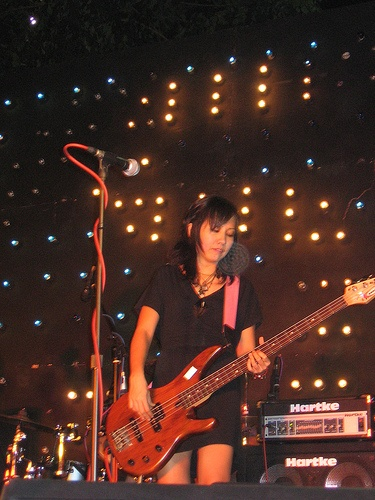head: (185, 197, 237, 262)
person: (122, 189, 263, 489)
